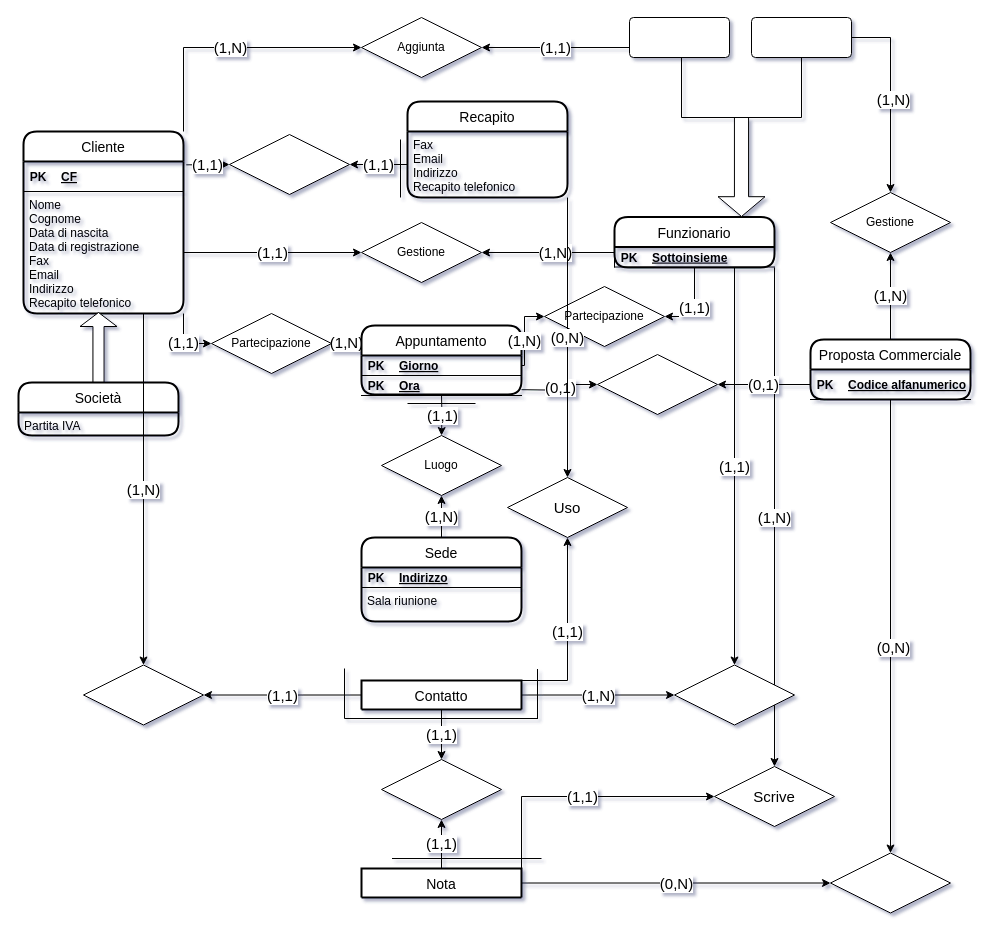
Image size: 994x937. Some labels were removed from this diagram. Each missing label, with the centre of its shape:
Associato: (441,789)
Discussione: (657,384)
Effettua: (734,694)
Fornire: (289,164)
Manager: (801,37)
Relazione: (890,882)
Riceve: (143,694)
Settore commerciale: (679,37)
